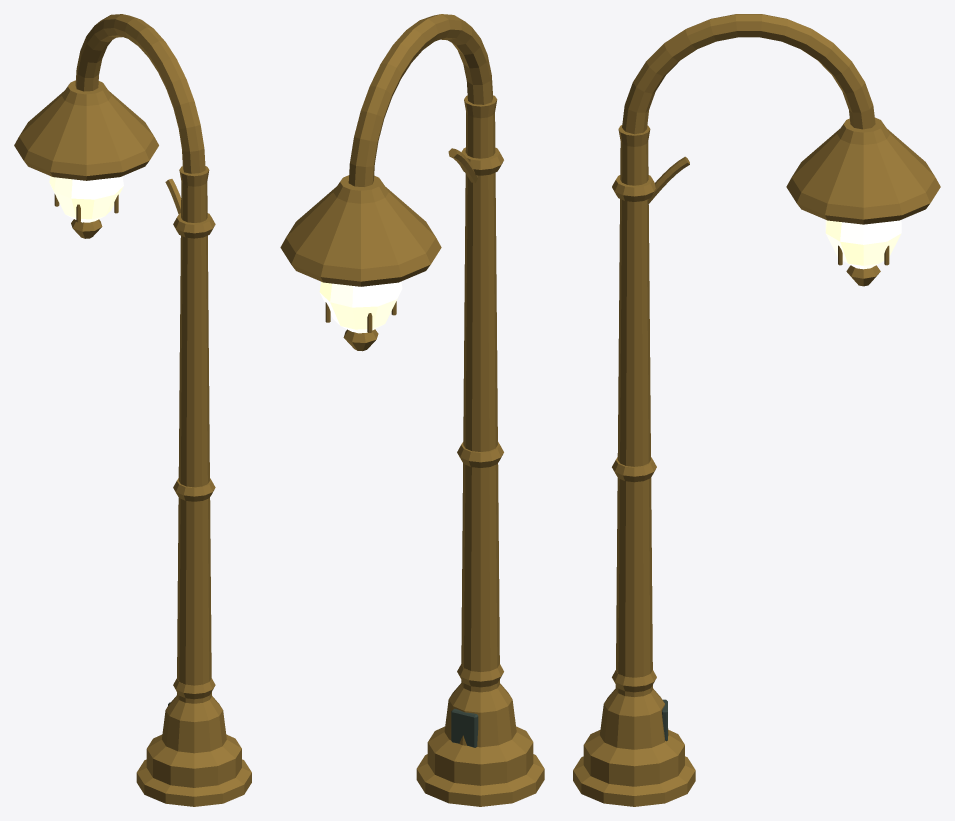
The model's file is SM_StreetLamp_L1.glb.
3 views of the same model, side by side, from view 1: azimuth 30°, elevation 25°; view 2: azimuth 150°, elevation 25°; view 3: azimuth 270°, elevation 25° (orthographic). The views are drawn at different scales.
Visible parts, largest first — view 1: SM_StreetLamp, SM_LampHead; view 2: SM_StreetLamp, SM_LampHead; view 3: SM_StreetLamp, SM_LampHead.
Boxes of the visible parts, x1,y1,x2,y2 form: SM_StreetLamp: (14, 14, 251, 806); SM_LampHead: (49, 176, 123, 222); SM_StreetLamp: (280, 14, 544, 806); SM_LampHead: (319, 281, 402, 333); SM_StreetLamp: (573, 14, 940, 806); SM_LampHead: (825, 220, 901, 269).
Bounding box in the file's own units: 0.58 × 3.17 × 1.38.
